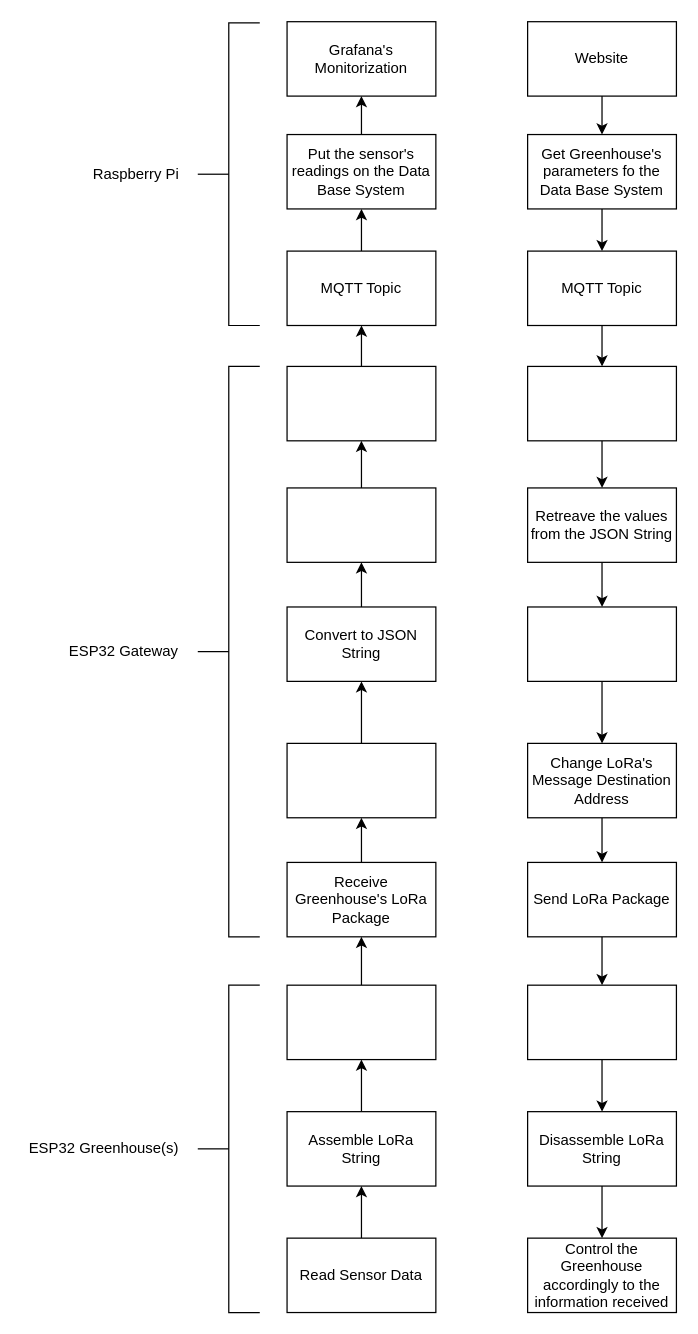
The diagram is 698 pixels wide and 1334 high, and some of its shapes have lost their labels. The shapes that lost their labels are listed below. From the top down, each one's centre as x and y in pixels, then its label:
the point at 361,403: Publish to the MQTT Topic
the point at 601,403: Subscribe to the MQTT Topic
the point at 361,524: Assemble MQTT String
the point at 601,643: Convert to a LoRa String
the point at 361,780: Decode LoRa Message
the point at 361,1022: Send LoRa Message
the point at 601,1022: Receive Gateway's LoRa Message
